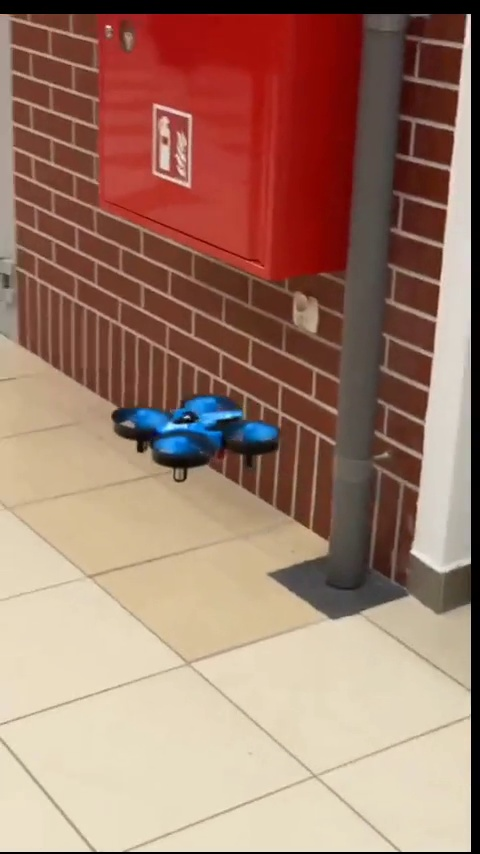drone: (111, 386, 277, 495)
